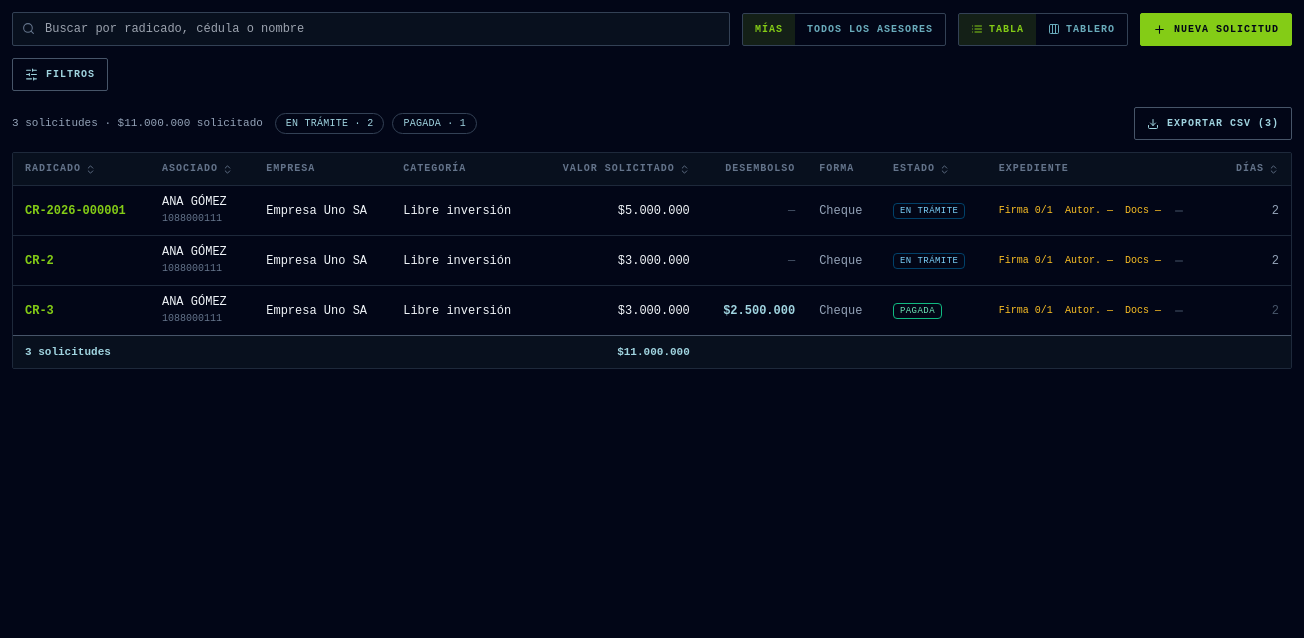
Test: Lista de créditos — filtros › cambiar un filtro del panel actualiza la URL y vuelve a pedir la lista
Expected: the link "CR-2026-000001" is shown, [25, 204, 126, 218]
Click the button "FILTROS" at (60, 74), box [12, 58, 108, 91]
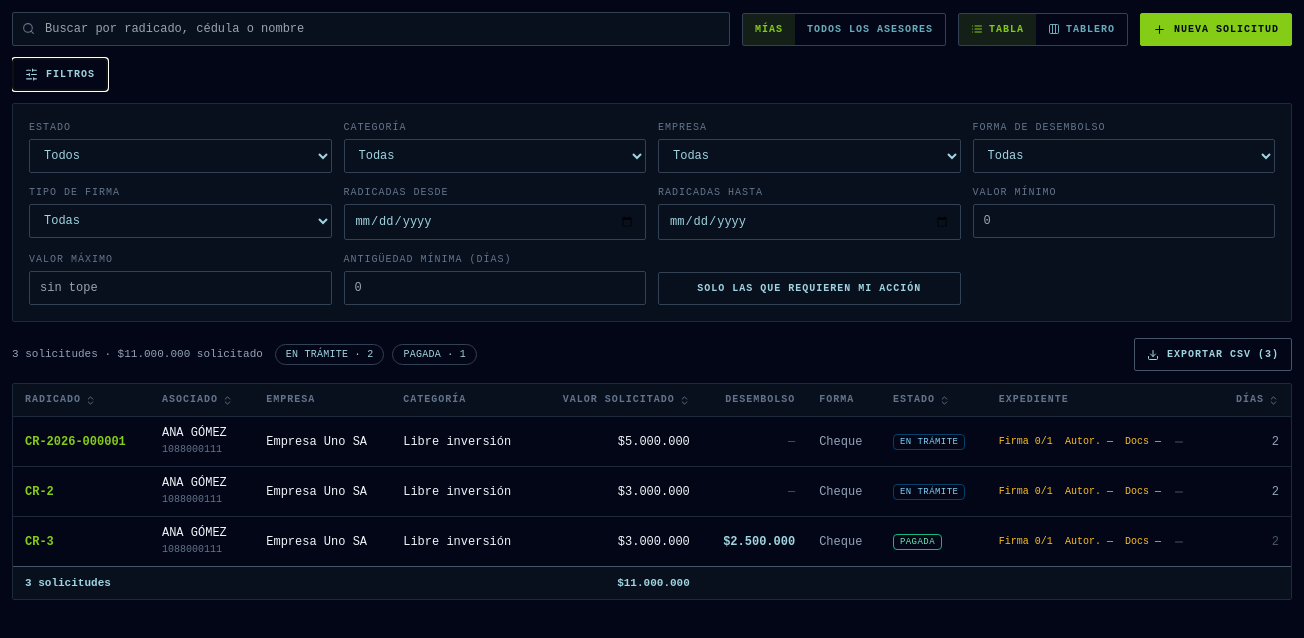
Select "Vivienda" in the dropdown labelled "CATEGORÍA" at (495, 156), box [344, 139, 646, 173]
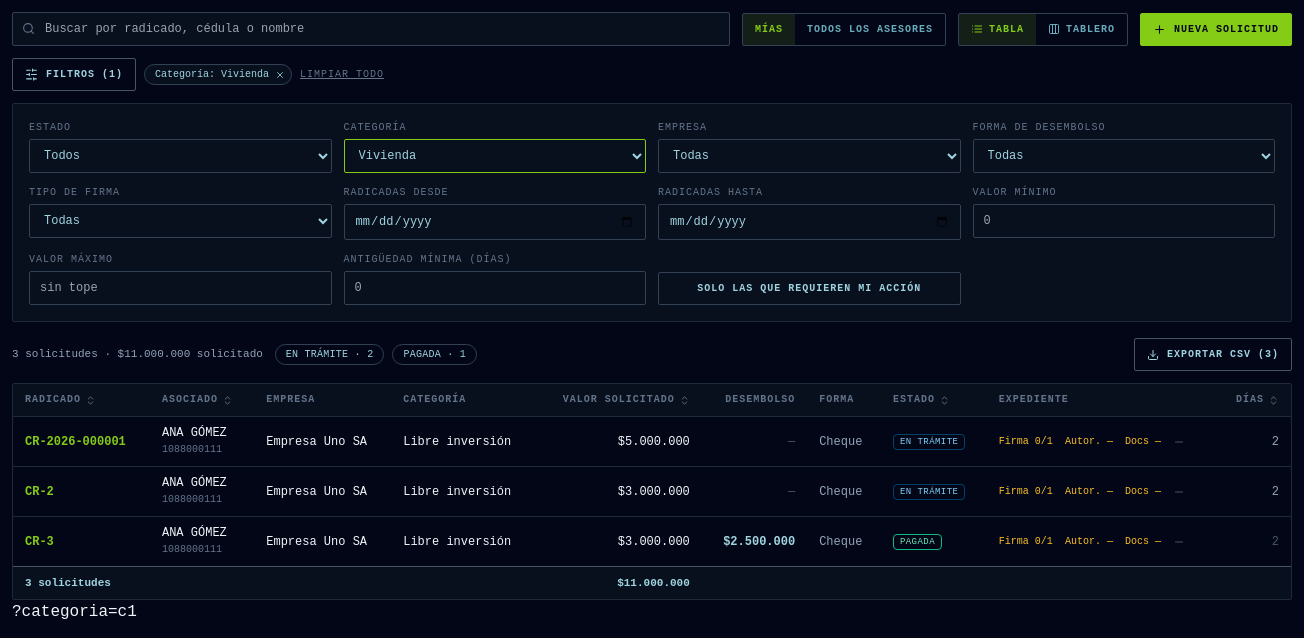
Result: the text with test id "ruta" shows "categoria=c1" at [12, 603, 137, 621]
